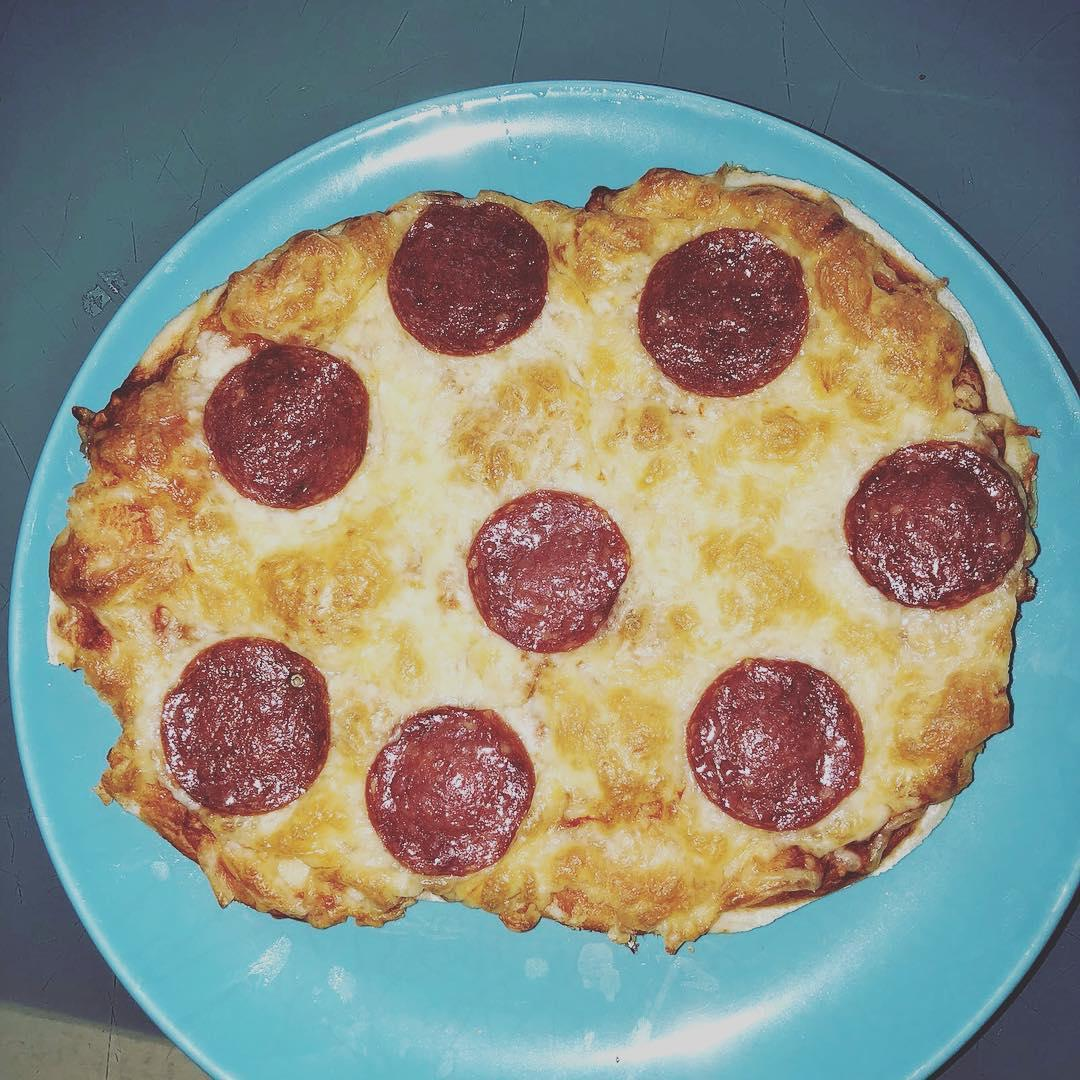Pepperoni: (844, 434, 1027, 618), (154, 628, 327, 812), (634, 234, 816, 403), (684, 654, 858, 827), (198, 348, 376, 509), (364, 708, 532, 876), (388, 194, 541, 354), (474, 492, 623, 645)
Pizza: (51, 168, 1036, 918)
